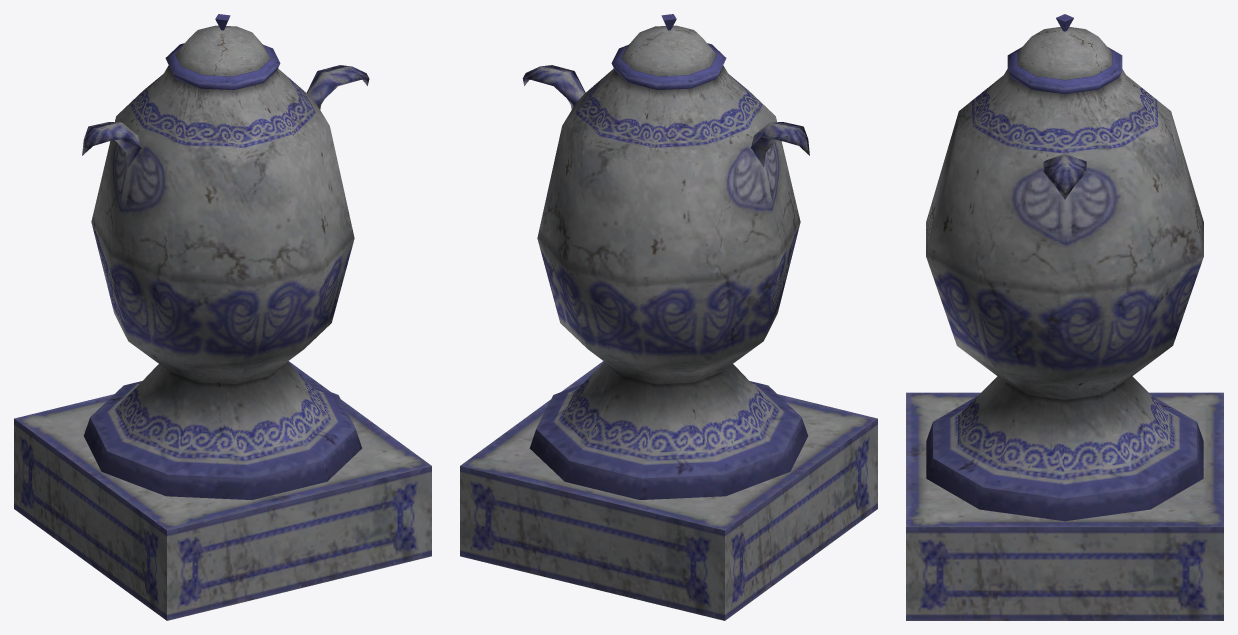
The model's file is vase02.dae.
3 renders of one model, left to right at view 1: azimuth 30°, elevation 25°; view 2: azimuth 150°, elevation 25°; view 3: azimuth 270°, elevation 25°, orthographic. The views are drawn at different scales.
Visible parts, largest first — view 1: polySurface17; view 2: polySurface17; view 3: polySurface17.
Boxes of the visible parts, x1,y1,x2,y2 form: polySurface17: (14, 14, 431, 620); polySurface17: (460, 14, 877, 620); polySurface17: (906, 14, 1223, 620).
Bounding box in the file's own units: 0.296 × 0.5103 × 0.2744.
